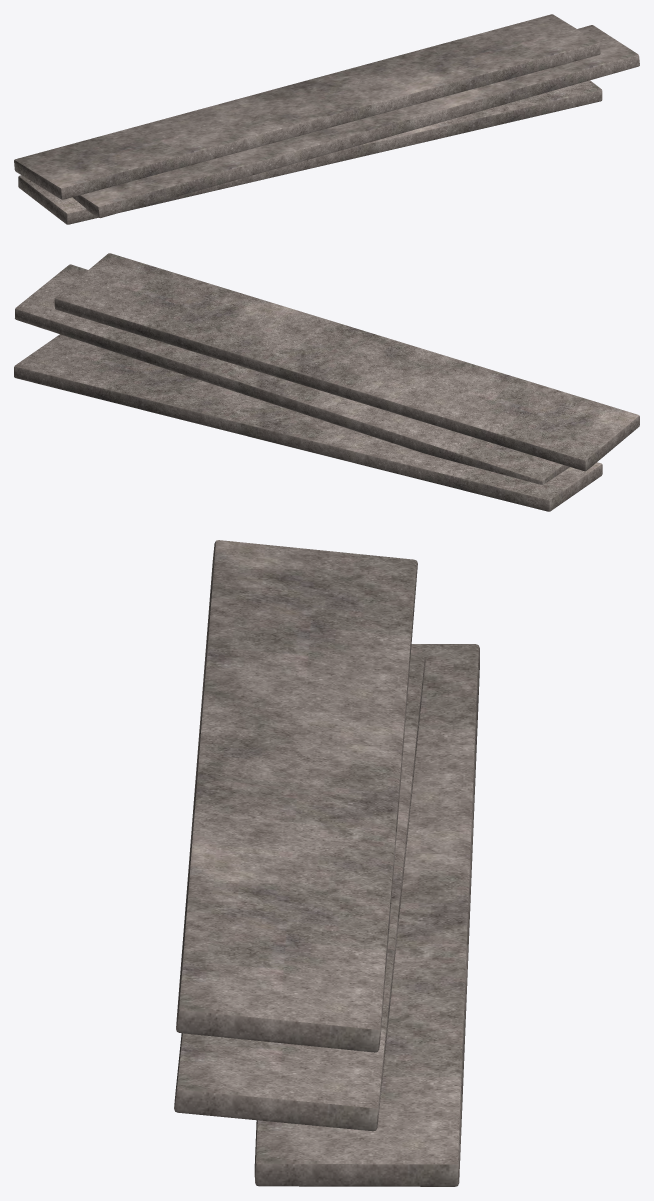
File: PIS-ROD-004_anim.glb
3 renders of one model, top to bottom at view 1: azimuth 30°, elevation 25°; view 2: azimuth 150°, elevation 25°; view 3: azimuth 270°, elevation 25°, orthographic. The views are drawn at different scales.
Visible parts, largest first — view 1: PIS-ROD-004_anim2, PIS-ROD-004_anim1, PIS-ROD-004_anim0; view 2: PIS-ROD-004_anim2, PIS-ROD-004_anim0, PIS-ROD-004_anim1; view 3: PIS-ROD-004_anim2, PIS-ROD-004_anim0, PIS-ROD-004_anim1.
Part boxes in pixels (<box>): PIS-ROD-004_anim2: <box>14,14,600,199</box>; PIS-ROD-004_anim1: <box>73,25,639,218</box>; PIS-ROD-004_anim0: <box>18,80,602,224</box>; PIS-ROD-004_anim2: <box>54,253,639,471</box>; PIS-ROD-004_anim0: <box>14,334,602,511</box>; PIS-ROD-004_anim1: <box>15,264,569,484</box>; PIS-ROD-004_anim2: <box>176,540,417,1052</box>; PIS-ROD-004_anim0: <box>254,644,479,1186</box>; PIS-ROD-004_anim1: <box>174,654,425,1131</box>.
Size of the model in its own units: 0.9715 by 0.127 by 0.2246.
1 material, 1 textured.
